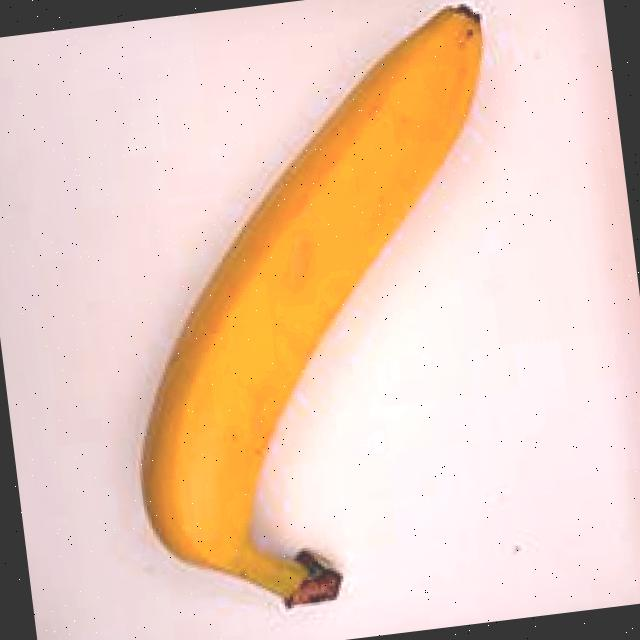Ripe: (57, 0, 572, 625)
